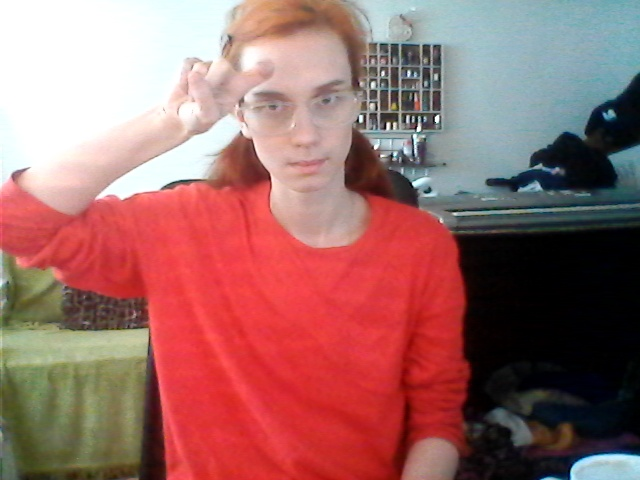chlapec: (166, 52, 290, 127)
